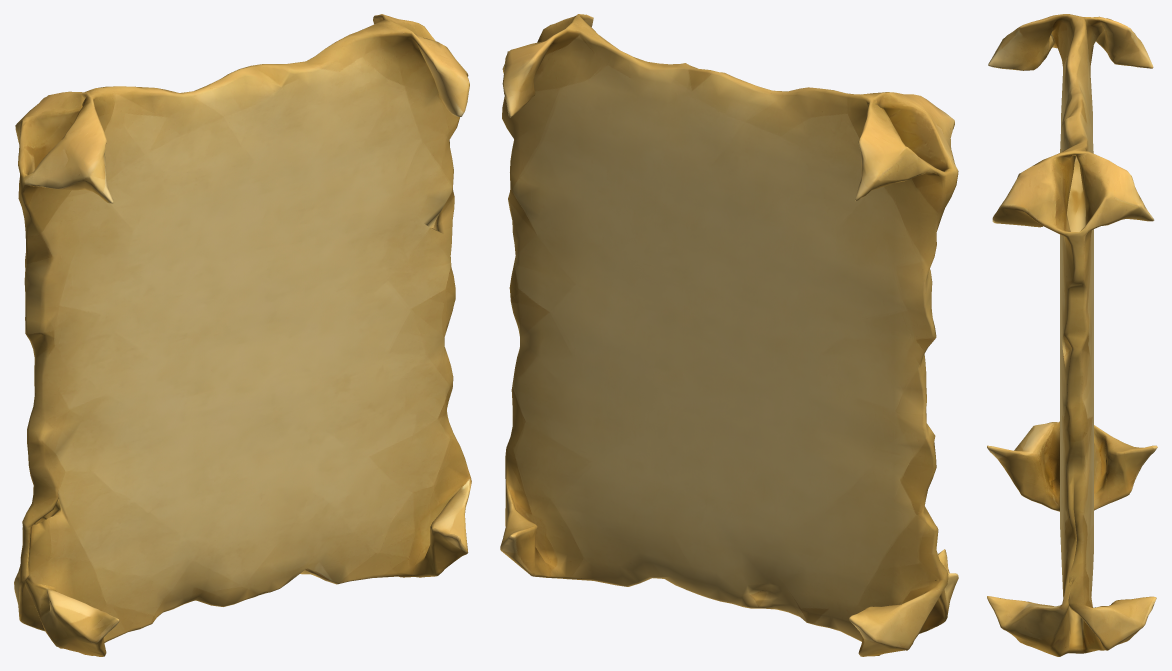
The model's file is paper_v2.glb.
The picture shows the model from 3 angles, left to right: view 1: azimuth 30°, elevation 25°; view 2: azimuth 150°, elevation 25°; view 3: azimuth 270°, elevation 25°; orthographic projection. The views are drawn at different scales.
Size of the model in its own units: 1.61 by 1.91 by 0.5871.
Materials: 1 (1 with a texture image).
